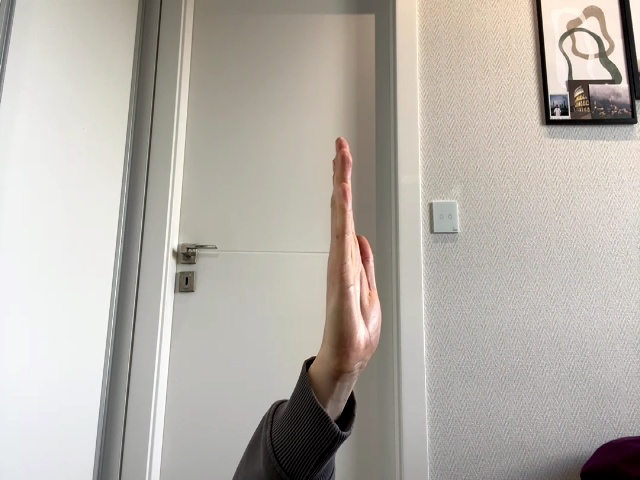SZ: (323, 137, 380, 373)
